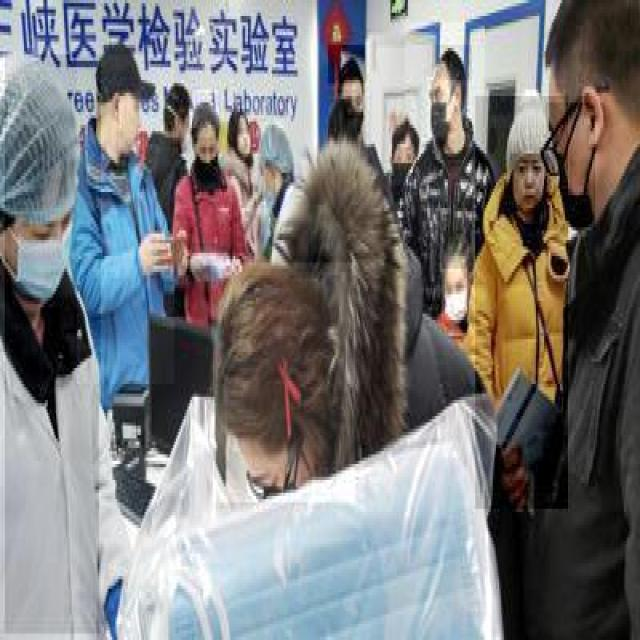face_mask: (11, 195, 74, 301), (546, 102, 596, 230), (428, 80, 454, 141), (442, 269, 468, 323), (390, 141, 414, 189), (195, 140, 219, 186), (341, 90, 363, 134), (258, 157, 276, 205), (179, 115, 192, 157)
face_nomask: (510, 154, 546, 211), (118, 93, 141, 150), (237, 122, 251, 156)
head_nohelmet: (213, 262, 357, 506), (530, 13, 614, 96), (328, 45, 368, 86), (435, 48, 472, 83), (190, 93, 221, 131)
person: (522, 3, 638, 637), (5, 54, 101, 637), (475, 96, 570, 512), (77, 55, 176, 388), (406, 24, 487, 299), (175, 91, 238, 347)
